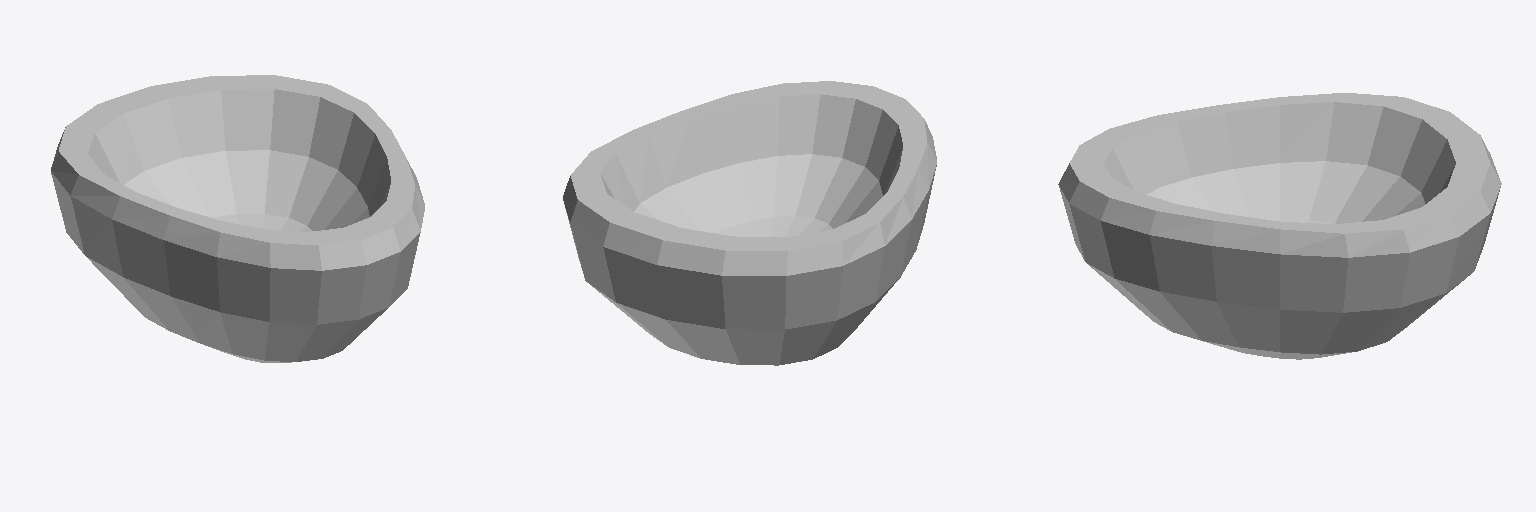
The model's file is toilet_bowl_1.obj.
3 renders of one model, left to right at view 1: azimuth 30°, elevation 25°; view 2: azimuth 150°, elevation 25°; view 3: azimuth 270°, elevation 25°, orthographic.
Bounding box in the file's own units: 7.19 × 4.22 × 9.13.